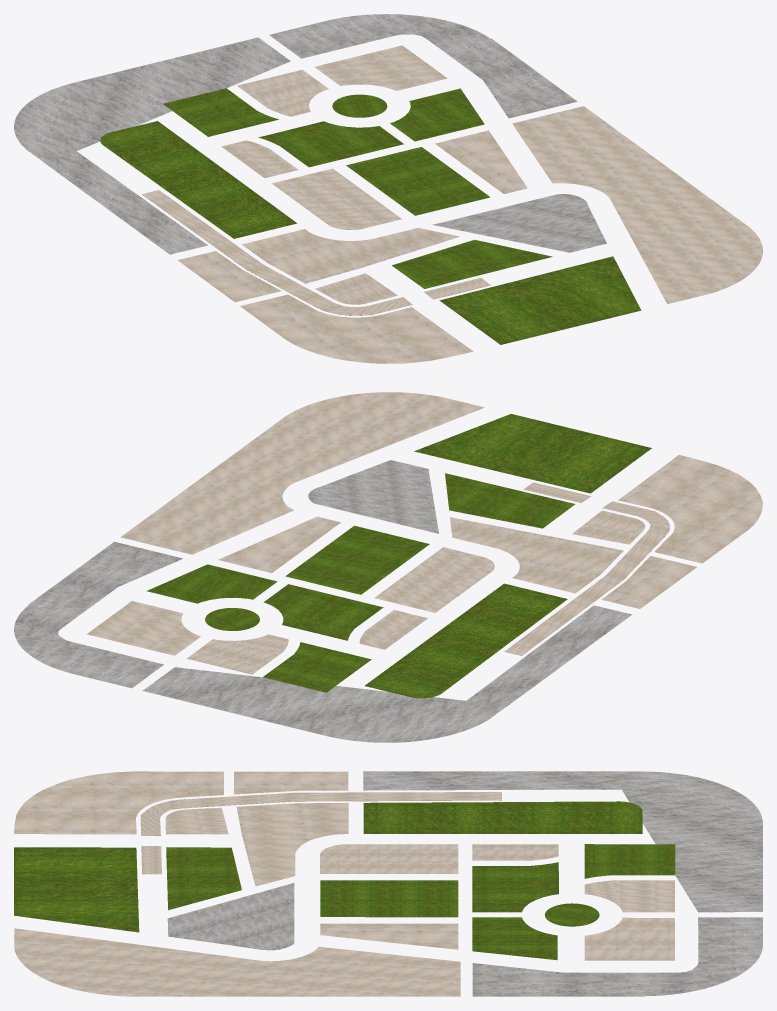
The model's file is Flore.fbx.
3 views of the same model, one above another, from view 1: azimuth 30°, elevation 25°; view 2: azimuth 150°, elevation 25°; view 3: azimuth 270°, elevation 25° (orthographic).
Parts seen in each view (by area): view 1: Flore; view 2: Flore; view 3: Flore.
Boxes of the visible parts, bbox=[...] form: Flore: bbox=[14, 14, 762, 363]; Flore: bbox=[14, 392, 762, 742]; Flore: bbox=[14, 771, 762, 996].
Size of the model in its own units: 461 by 0.7816 by 648.
5 materials, 5 textured.
